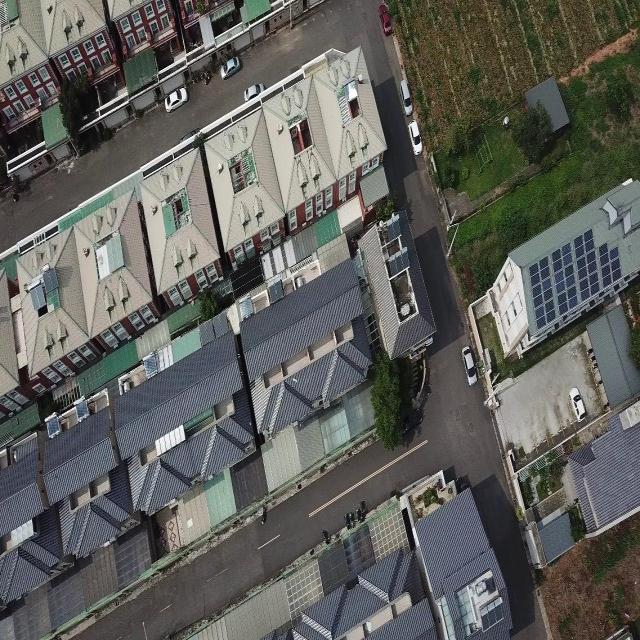car: (567, 378, 590, 427), (163, 83, 190, 114), (461, 343, 479, 385), (398, 77, 414, 116), (220, 54, 243, 81), (409, 120, 424, 156)
